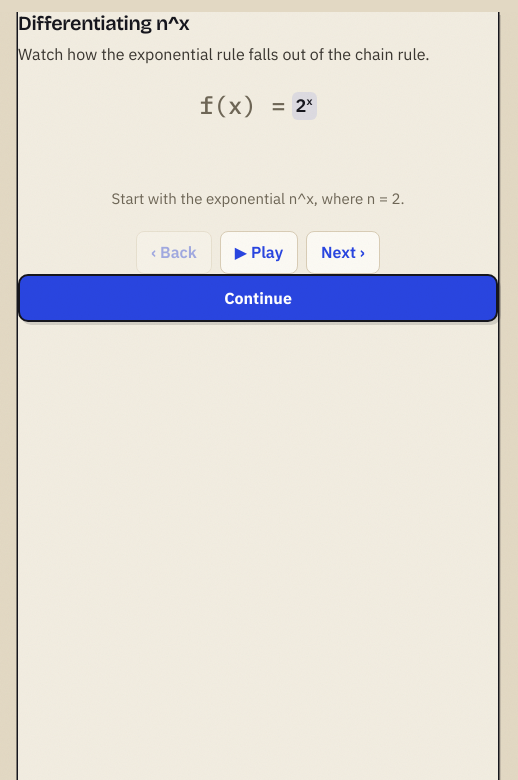
Test: NPowerXAnimationSlide (L4) › reveals the first step immediately on Play (no initial delay)
The width and height of the screenshot is (518, 780).
Click the button "▶ Play": (259, 253) [220, 231, 298, 274]
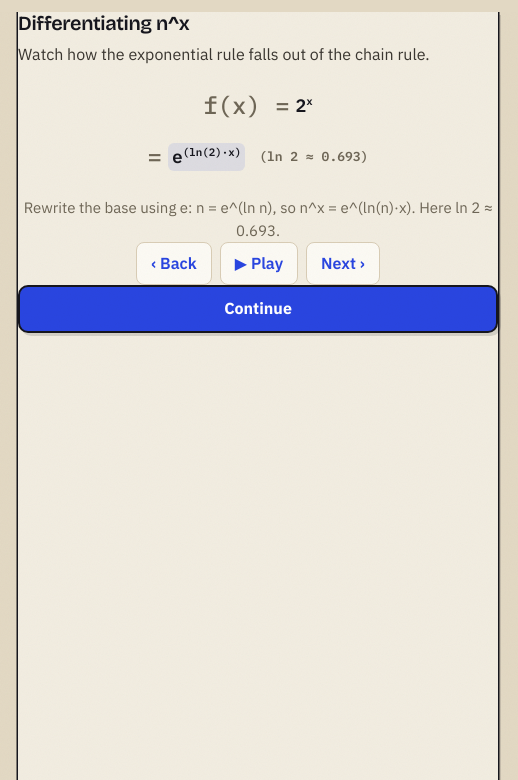
Result: the element with class "cr-fade" is shown at [148, 138, 368, 176]
